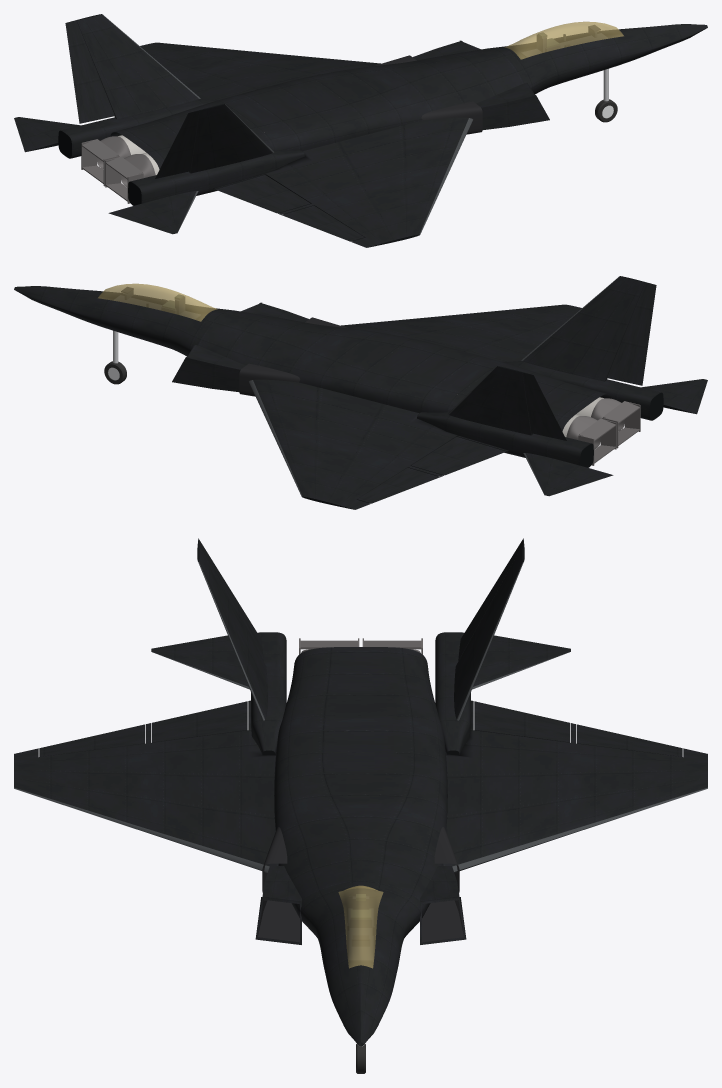
3 renders of one model, top to bottom at view 1: azimuth 30°, elevation 25°; view 2: azimuth 150°, elevation 25°; view 3: azimuth 270°, elevation 25°, orthographic. The views are drawn at different scales.
Visible parts, largest first — view 1: fuselaje.central, ala.derecha, fuselaje.trasero, ala.izquierda, deriva.izquierda, fuselaje.delantero, deriva.derecha, timon.izquierda, cabina, toma.derecha, estabilizador.derecho, flaperon.derecha (+10 smaller); view 2: fuselaje.central, ala.izquierda, fuselaje.trasero, ala.derecha, deriva.derecha, fuselaje.delantero, deriva.izquierda, timon.derecha, cabina, toma.izquierda, estabilizador.izquierdo, flaperon.izquierda (+10 smaller); view 3: fuselaje.central, ala.derecha, ala.izquierda, fuselaje.trasero, fuselaje.delantero, deriva.derecha, deriva.izquierda, toma.derecha, toma.izquierda, cabina, estabilizador.derecho, estabilizador.izquierdo (+7 smaller).
Part boxes in pixels (box(x1,y1,x2,y2)): fuselaje.central: box(218, 48, 524, 151); ala.derecha: box(213, 117, 472, 247); fuselaje.trasero: box(58, 99, 304, 205); ala.izquierda: box(140, 42, 380, 99); deriva.izquierda: box(76, 14, 200, 119); fuselaje.delantero: box(487, 24, 707, 94); deriva.derecha: box(189, 104, 273, 173); timon.izquierda: box(65, 20, 114, 123); cabina: box(505, 21, 623, 59); toma.derecha: box(476, 83, 549, 129); estabilizador.derecho: box(108, 191, 198, 234); flaperon.derecha: box(215, 175, 310, 213); fuselaje.central: box(197, 310, 503, 413); ala.izquierda: box(249, 379, 508, 509); fuselaje.trasero: box(417, 361, 663, 467); ala.derecha: box(341, 304, 581, 361); deriva.derecha: box(521, 276, 645, 381); fuselaje.delantero: box(14, 286, 234, 356); deriva.izquierda: box(448, 366, 532, 435); timon.derecha: box(607, 282, 656, 385); cabina: box(98, 283, 217, 321); toma.izquierda: box(172, 345, 245, 391); estabilizador.izquierdo: box(523, 453, 613, 496); flaperon.izquierda: box(411, 437, 506, 475); fuselaje.central: box(262, 716, 459, 935); ala.derecha: box(14, 700, 278, 872); ala.izquierda: box(443, 700, 707, 872); fuselaje.trasero: box(251, 632, 470, 755); fuselaje.delantero: box(297, 881, 424, 1046); deriva.derecha: box(197, 545, 267, 720); deriva.izquierda: box(454, 545, 524, 720); toma.derecha: box(255, 866, 301, 944); toma.izquierda: box(420, 866, 466, 944); cabina: box(338, 885, 383, 968); estabilizador.derecho: box(151, 635, 249, 689); estabilizador.izquierdo: box(472, 635, 570, 689).
Size of the model in its own units: 19.1 by 4.85 by 13.56.
16 materials, 1 textured.
